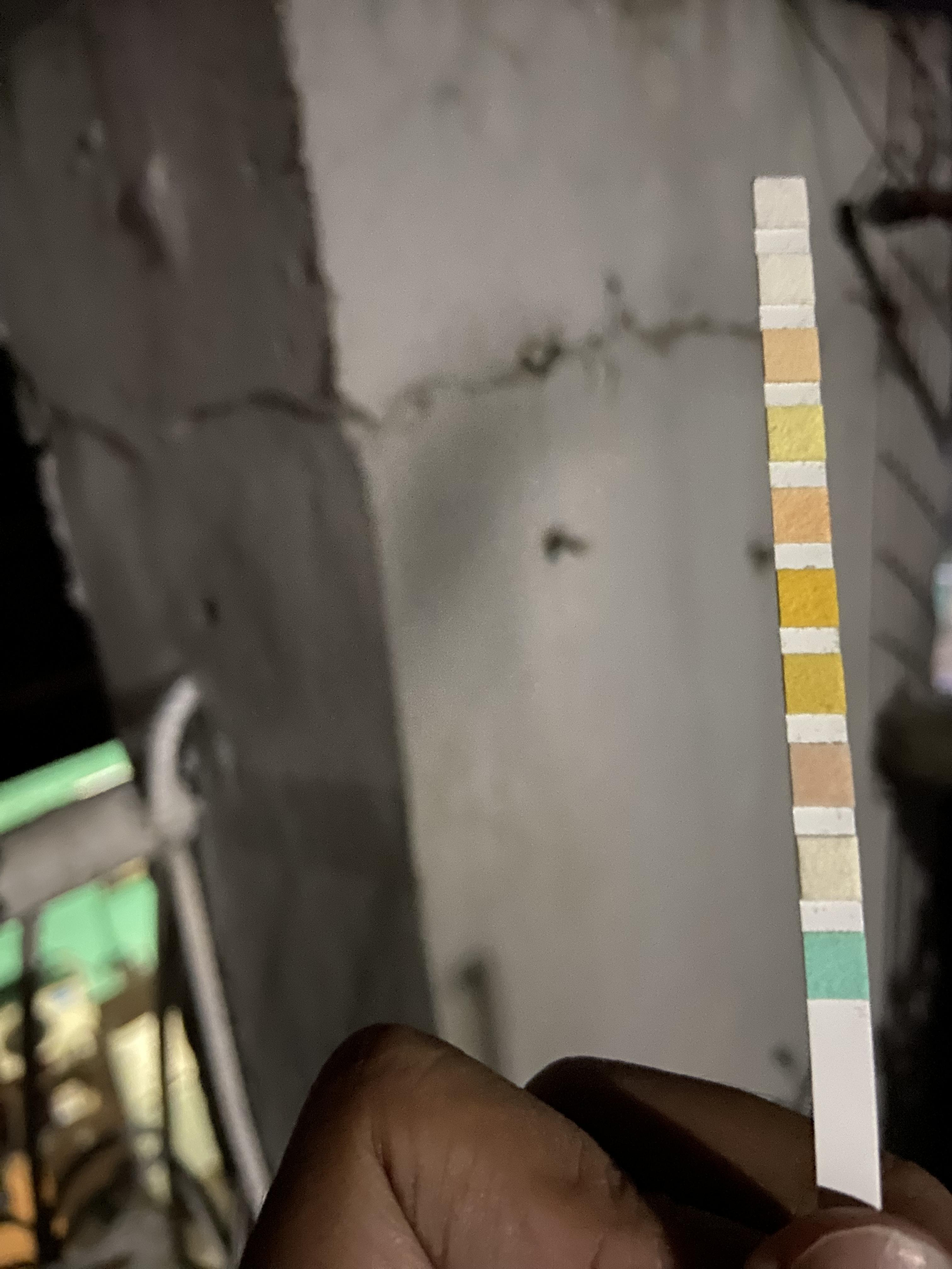Bilirubin: (803, 837, 856, 897)
Blood: (783, 570, 835, 628)
Glucose: (808, 932, 864, 996)
Ketone: (795, 743, 847, 805)
Leukocytes: (758, 180, 807, 227)
Nitrite: (763, 255, 811, 301)
Protein: (772, 405, 822, 460)
SpGravity: (787, 654, 843, 713)
Urobilinogen: (768, 332, 815, 380)
pH: (777, 490, 827, 542)
strip: (751, 176, 882, 1203)
